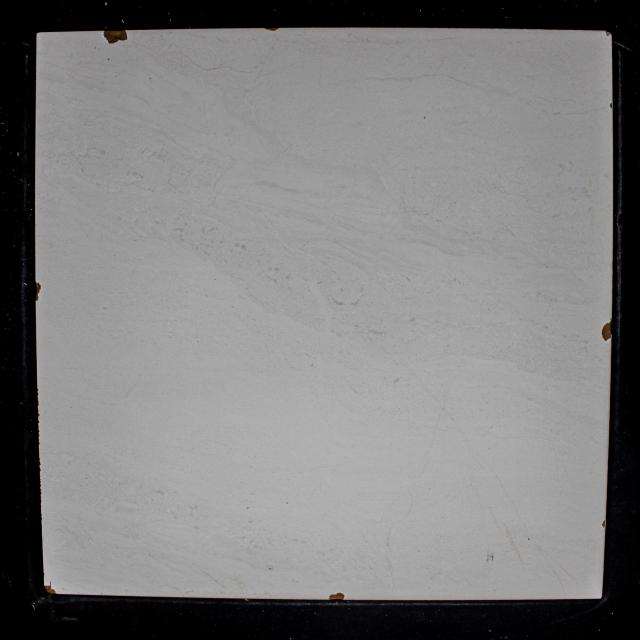edge-chipping: (103, 30, 128, 44), (601, 319, 612, 341), (34, 282, 42, 302), (328, 592, 345, 601), (43, 585, 57, 594), (264, 27, 279, 32), (605, 30, 612, 37)
